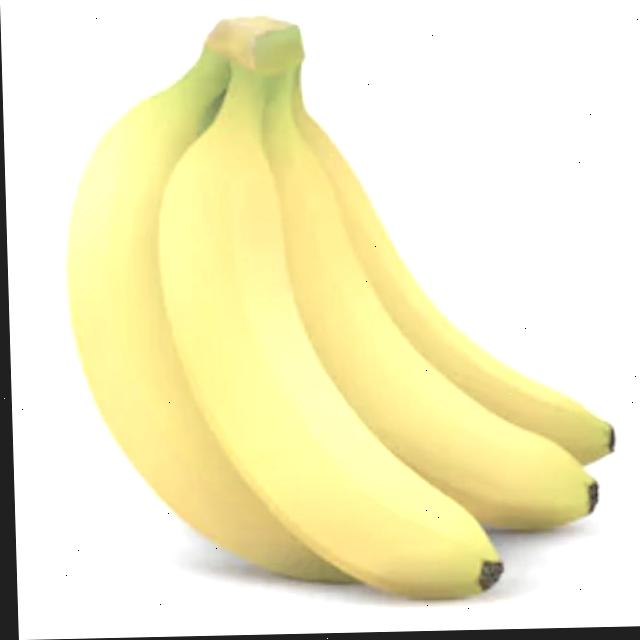banana: (56, 18, 621, 604)
